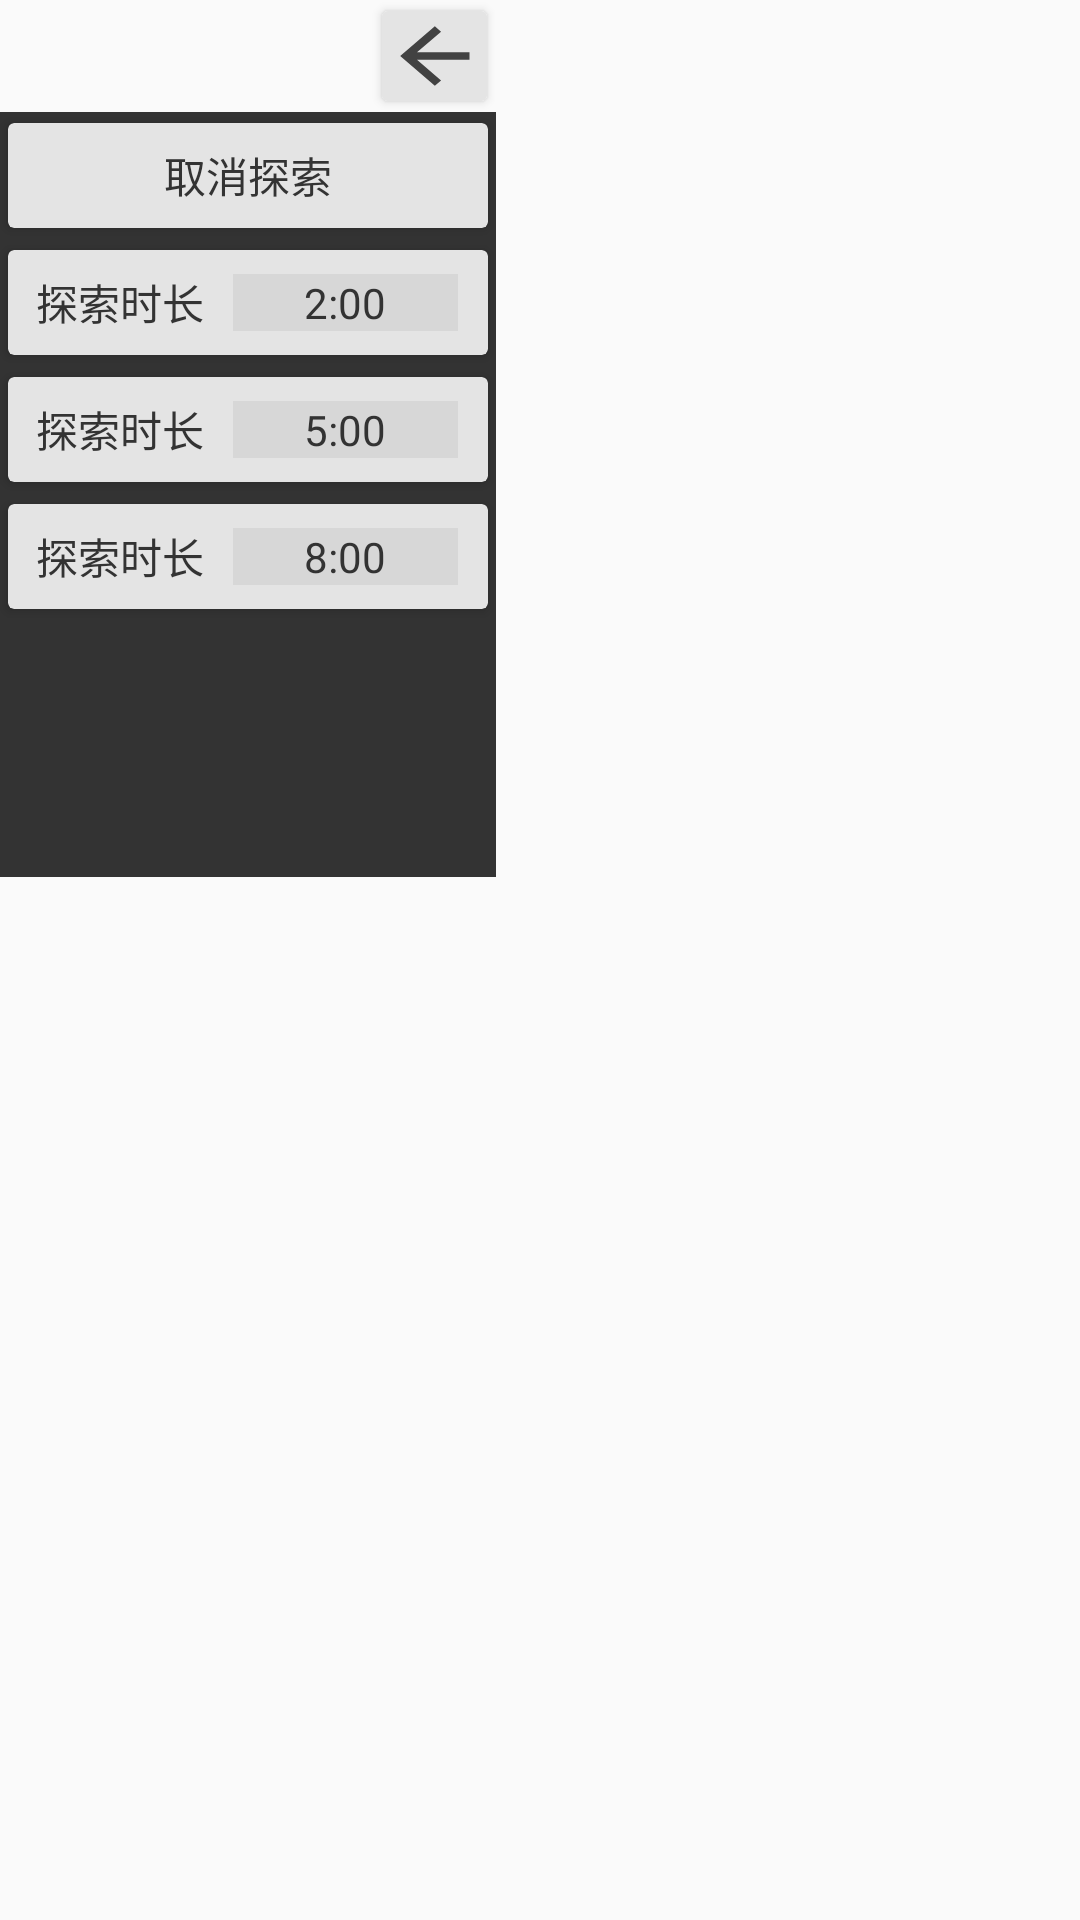

Icons on this 1080w x 1920h Android screen, each with the point to tap as (x=x, y=y):
back: (x=435, y=56)
